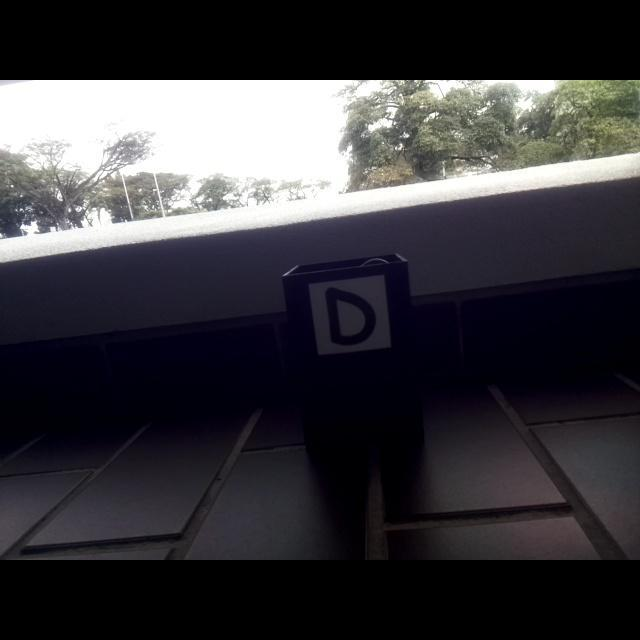D: (325, 287, 376, 346)
